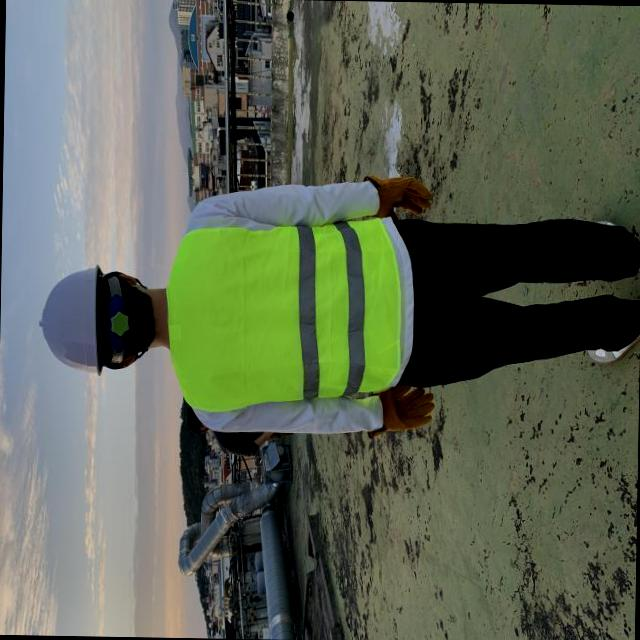gloves: (362, 164, 442, 226), (374, 382, 448, 443)
helmet: (33, 263, 112, 376)
vest: (164, 226, 413, 396)
